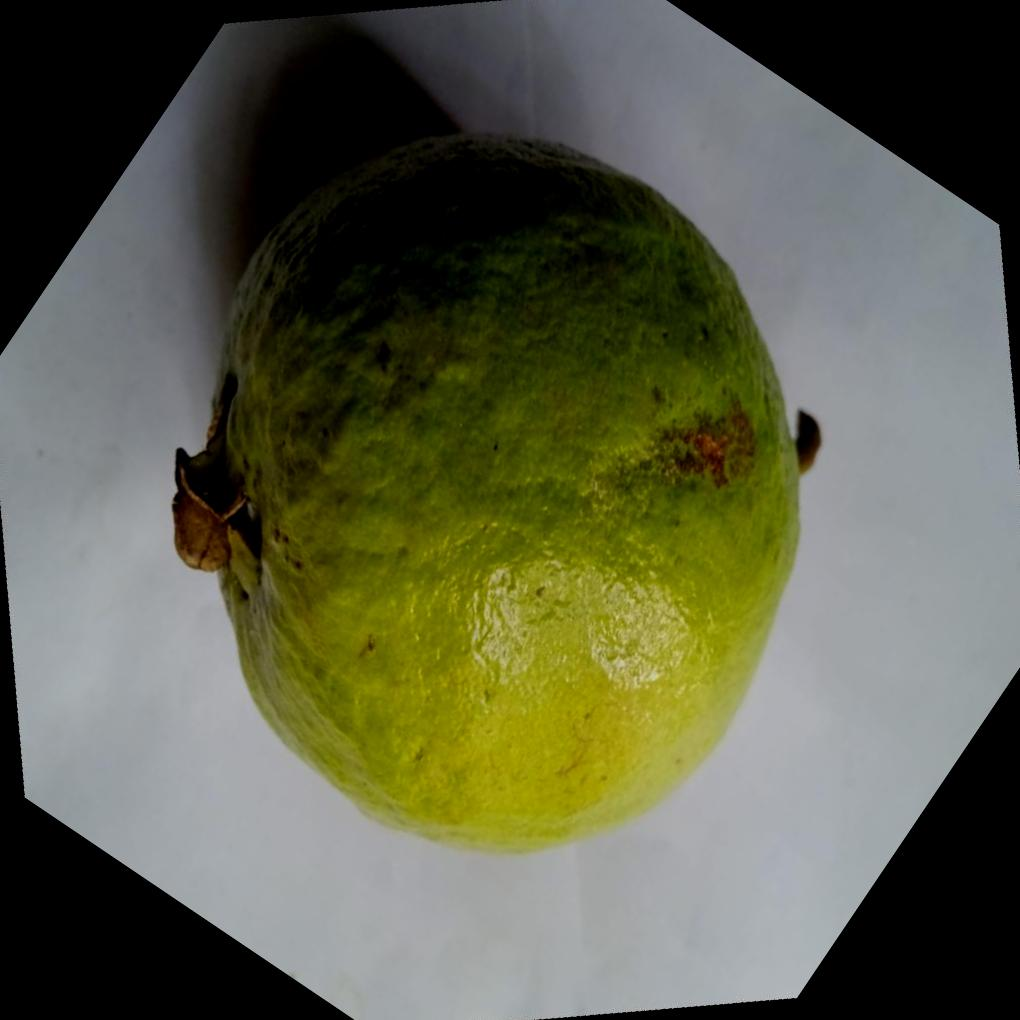FreshGuava: (167, 130, 803, 860)
